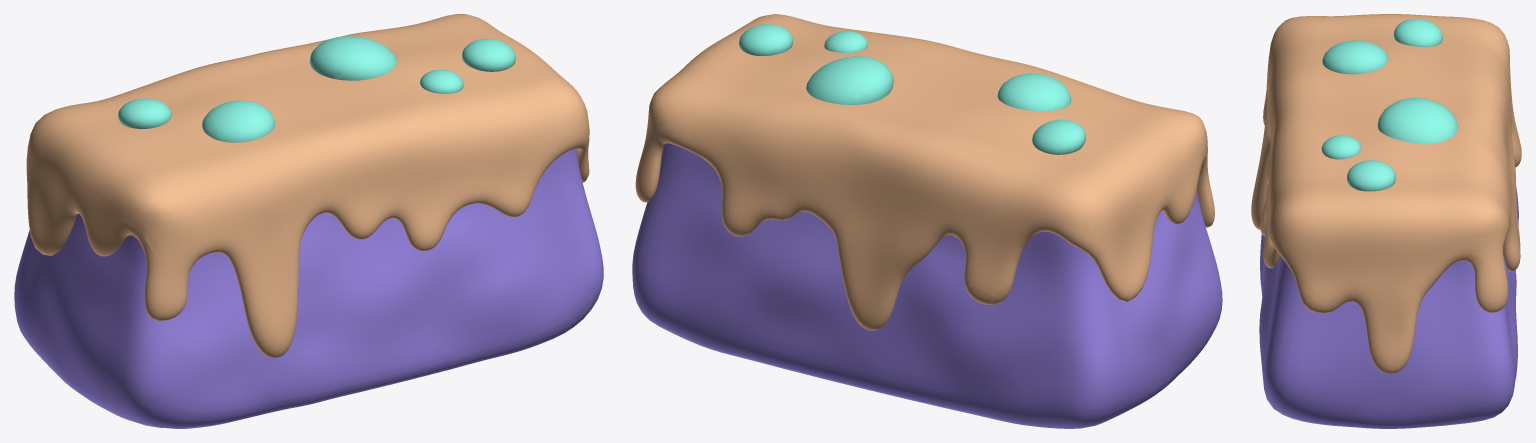
File: Cake.fbx
The picture shows the model from 3 angles, left to right: view 1: azimuth 30°, elevation 25°; view 2: azimuth 150°, elevation 25°; view 3: azimuth 270°, elevation 25°; orthographic projection. The views are drawn at different scales.
Parts seen in each view (by area): view 1: HappyBox; view 2: HappyBox; view 3: HappyBox.
Part boxes in pixels (<box>): HappyBox: <box>14,14,603,428</box>; HappyBox: <box>632,14,1222,428</box>; HappyBox: <box>1251,14,1521,428</box>.
Size of the model in its own units: 156 by 84.22 by 81.09.
